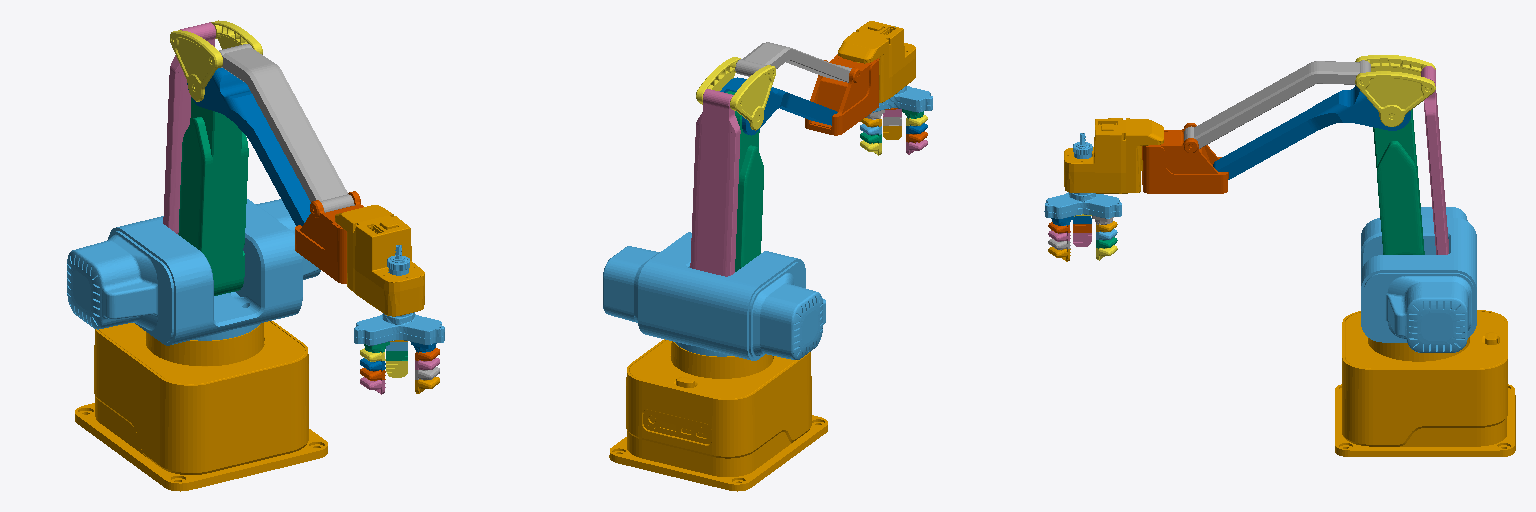
The robot description file, URDF, robot "DexArm_unofficial":
<robot name="DexArm_unofficial">
  <!-- 
    Components: 
      - B_Fix       L31
      - F_Rot       L44
      - In_1        L67
      - In_2        L114
      - Out_1       L161
      - Out_2       L185
      - Join        L90
      - EE          L137
    Modules: (Go to line and uncomment your choice)
      - Suction     L209
      - Gripper     L234

    Joints:
      Bases:
        - B_Fix -> B_Rot   [-110 deg, 110deg]           L59
      Inner Arms:
        - B_Rot -> In_1    [0, pi/2]                    L81
        - In_1  -> Join    [mimic -1 * B_Rot -> In_1]   L104
        - Join  -> I_2     [-0.6, 1.2]                  L128
        - In_2  -> EE      [mimic -1 * Join  -> In_2]   L151
      Outer Arms:
        - Join  -> Out_1   [mimic  1 * B_Rot -> In_1]   L175
        - Join  -> Out_2   [mimic  1 * Join  -> In_2]   L199
  -->

  <!-- Anchor and rotating base -->
  <link name="B_Fix">
    <visual>
      <origin xyz="0 0 0" rpy="0 0 0"/>
      <geometry>
        <mesh filename="./STL/00-B_Fix.stl" scale="0.001 0.001 0.001"/>
      </geometry>
    </visual>
    <collision>
      <origin xyz="0 0 0" rpy="0 0 0"/>
      <geometry>
        <mesh filename="./STL/00-B_Fix.stl" scale="0.001 0.001 0.001"/>
      </geometry>
    </collision>
  </link>
  <link name="B_Rot">
    <visual>
      <origin xyz="0 0 0" rpy="0 0 0"/>
      <geometry>
        <mesh filename="./STL/01-B_Rot.stl" scale="0.001 0.001 0.001"/>
      </geometry>
    </visual>
    <collision>
      <origin xyz="0 0 0" rpy="0 0 0"/>
      <geometry>
        <mesh filename="./STL/01-B_Rot.stl" scale="0.001 0.001 0.001"/>
      </geometry>
    </collision>
  </link>
  <joint name="bases" type="revolute">
    <parent link="B_Fix" />
    <child link="B_Rot" />
    <limit effort="30" lower="-1.91986" upper="1.91986" velocity="1.74533" />
    <origin xyz="0 0 0" rpy="0 0 0"/>
    <axis xyz="0 0 1" />
  </joint>

  <!-- Base to inner Arm 1 -->
  <link name="In_1">
    <visual>
      <origin xyz="0 0.022 -0.127" rpy="0 0 0" />
      <geometry>
        <mesh filename="./STL/02-In_1.stl" scale="0.001 0.001 0.001"/>
      </geometry>
    </visual>
    <collision>
      <origin xyz="0 0.022 -0.127" rpy="0 0 0"/>
      <geometry>
        <mesh filename="./STL/02-In_1.stl" scale="0.001 0.001 0.001"/>
      </geometry>
    </collision>
  </link>
  <joint name="B_Rot->In_1" type="revolute">
    <parent link="B_Rot" />
    <child link="In_1" />
    <limit effort="30" lower="0" upper="1.57" velocity="1.74533" />
    <origin xyz="0 -0.02 0.13" rpy="0 0 0"/>
    <axis xyz="1 0 0" />
  </joint>

  <!-- Inner Arm 1 to Join -->
  <link name="Join">
    <visual>
      <origin xyz="0 0.0332 -0.277" rpy="0 0 0" />
      <geometry>
        <mesh filename="./STL/03-Join.stl" scale="0.001 0.001 0.001"/>
      </geometry>
    </visual>
    <collision>
      <origin xyz="0 0.0332 -0.277" rpy="0 0 0"/>
      <geometry>
        <mesh filename="./STL/03-Join.stl" scale="0.001 0.001 0.001"/>
      </geometry>
    </collision>
  </link>
  <joint name="In_1->Join" type="revolute">
    <parent link="In_1" />
    <child link="Join" />
    <limit effort="30" lower="-1.57" upper="0" velocity="1.74533" />
    <origin xyz="0 -0.0112 0.15" rpy="0 0 0"/>
    <axis xyz="1 0 0" />
    <mimic joint="B_Rot->In_1" multiplier="-1" offset="0" />
  </joint>

  <!-- Join to Inner Arm 2 -->
  <link name="In_2">
    <visual>
      <origin xyz="0 0.034 -0.276" rpy="0 0 0"/>
      <geometry>
        <mesh filename="./STL/04-In_2.stl" scale="0.001 0.001 0.001"/>
      </geometry>
    </visual>
    <collision>
      <origin xyz="0 0.033 -0.279" rpy="0 0 0"/>
      <geometry>
        <mesh filename="./STL/04-In_2.stl" scale="0.001 0.001 0.001"/>
      </geometry>
    </collision>
  </link>
  <joint name="Join->In_2" type="revolute">
    <parent link="Join" />
    <child link="In_2" />
    <limit effort="30" lower="-0.6" upper="1.2" velocity="1.74533" />
    <origin xyz="0.0 -0.0003 -0.0003" rpy="0 0 0"/>
    <axis xyz="1 0 0" />
  </joint>

  <!-- Inner arm 2 to end effector -->
  <link name="EE">
    <visual>
      <origin xyz="0.0 0.172 -0.218" rpy="0 0 0" />
      <geometry>
        <mesh filename="./STL/05-EE.stl" scale="0.001 0.001 0.001"/>
      </geometry>
    </visual>
    <collision>
      <origin xyz="0.0 0.172 -0.215" rpy="0 0 0" />
      <geometry>
        <mesh filename="./STL/05-EE.stl" scale="0.001 0.001 0.001"/>
      </geometry>
    </collision>
  </link>
  <joint name="In_2->EE" type="revolute">
    <parent link="In_2" />
    <child link="EE" />
    <origin xyz="0 -0.138 -0.058" rpy="0 0 0"/>
    <axis xyz="1 0 0" />
    <mimic joint="Join->In_2" multiplier="-1" offset="0" />
  </joint>

  <!-- The remaining components and joints are not functional -->
  <!-- Base to outer Arm 1 -->
  <link name="Out_1">
    <visual>
      <origin xyz="0 0.005 -0.301" rpy="0 0 0" />
      <geometry>
        <mesh filename="./STL/06-Out_1.stl" scale="0.001 0.001 0.001"/>
      </geometry>
    </visual>
    <collision>
      <origin xyz="0 0.003 -0.305" rpy="0 0 0"/>
      <geometry>
        <mesh filename="./STL/06-Out_1.stl" scale="0.001 0.001 0.001"/>
      </geometry>
    </collision>
  </link>
  <joint name="Join->Out_1" type="revolute">
    <parent link="Join" />
    <child link="Out_1" />
    <limit effort="30" lower="0" upper="1.57" velocity="1.74533" />
    <origin xyz="0 0.0285 0.024" rpy="0 0 0"/>
    <axis xyz="1 0 0" />
    <mimic joint="B_Rot->In_1" multiplier="1" offset="0" />
  </joint>

  <!-- Join to outer Arm 2 -->
  <link name="Out_2">
    <visual>
      <origin xyz="0 0.058 -0.307" rpy="0 0 0" />
      <geometry>
        <mesh filename="./STL/07-Out_2.stl" scale="0.001 0.001 0.001"/>
      </geometry>
    </visual>
    <collision>
      <origin xyz="0 0.057 -0.307" rpy="0 0 0"/>
      <geometry>
        <mesh filename="./STL/07-Out_2.stl" scale="0.001 0.001 0.001"/>
      </geometry>
    </collision>
  </link>
  <joint name="Join->Out_2" type="revolute">
    <parent link="Join" />
    <child link="Out_2" />
    <limit effort="30" lower="-0.6" upper="1.2" velocity="1.74533" />
    <origin xyz="0 -0.024 0.0294" rpy="0 0 0"/>
    <axis xyz="1 0 0" />
    <mimic joint="Join->In_2" multiplier="1" offset="0" />
  </joint>


  <!-- Modules -->
  <!--
  <link name="Suction">
    <visual>
      <origin xyz="-0.077 -0.134 -0.003" rpy="0 3.14 1.57" />
      <geometry>
        <mesh filename="./STL/M01-Suction.stl" scale="0.001 0.001 0.001"/>
      </geometry>
    </visual>
    <collision>
      <origin xyz="-0.077 -0.134 -0.003" rpy="0 3.14 1.57"/>
      <geometry>
        <mesh filename="./STL/M01-Suction.stl" scale="0.001 0.001 0.001"/>
      </geometry>
    </collision>
  </link>
  <joint name="EE->Suction" type="fixed">
    <parent link="EE" />
    <child link="Suction" />
    <limit effort="30" lower="-0.6" upper="1.2" velocity="1.74533" />
    <origin xyz="0 -0.05 0.01" rpy="0 0 0"/>
    <axis xyz="1 0 0" />
  </joint> 
  -->

  <link name="GripperMount">
    <visual>
      <origin xyz="-0.077 -0.134 -0.003" rpy="0 3.14 1.57" />
      <geometry>
        <mesh filename="./STL/M02-GripperMount.stl" scale="0.001 0.001 0.001"/>
      </geometry>
    </visual>
    <collision>
      <origin xyz="-0.077 -0.134 -0.003" rpy="0 3.14 1.57"/>
      <geometry>
        <mesh filename="./STL/M02-GripperMount.stl" scale="0.001 0.001 0.001"/>
      </geometry>
    </collision>
  </link>
  <joint name="EE->GripperMount" type="fixed">
    <parent link="EE" />
    <child link="GripperMount" />
    <limit effort="30" lower="-0.6" upper="1.2" velocity="1.74533" />
    <origin xyz="0 -0.05 0.01" rpy="0 0 0"/>
    <axis xyz="1 0 0" />
  </joint>

  <link name="GripperAxis">
    <visual>
      <origin xyz="-0.075 -0.075 -0.000" rpy="0 3.14 1.57" />
      <geometry>
        <mesh filename="./STL/M02-GripperAxis.stl" scale="0.001 0.001 0.001"/>
      </geometry>
    </visual>
    <collision>
      <origin xyz="-0.075 -0.075 -0.000" rpy="0 3.14 1.57"/>
      <geometry>
        <mesh filename="./STL/M02-GripperAxis.stl" scale="0.001 0.001 0.001"/>
      </geometry>
    </collision>
  </link>
  <joint name="GripperMount->GripperAxis" type="continuous">
    <parent link="GripperMount" />
    <child link="GripperAxis" />
    <limit effort="30" velocity="1.74533" />
    <origin xyz="-0.002 -0.06 0.0" rpy="0 0 0"/>
    <axis xyz="0 0 1" />
  </joint>

  <link name="GripperFingerA1">
    <visual>
      <origin xyz="-0.054 -0.075 0.036" rpy="0.0 3.14 1.57" />
      <geometry>
        <mesh filename="./STL/M02-GripperFinger1.stl" scale="0.001 0.001 0.001"/>
      </geometry>
    </visual>
    <collision>
      <origin xyz="-0.054 -0.075 0.036" rpy="0.0 3.14 1.57" />
      <geometry>
        <mesh filename="./STL/M02-GripperFinger1.stl" scale="0.001 0.001 0.001"/>
      </geometry>
    </collision>
  </link>
  <joint name="GripperAxis->GripperFingerA1" type="fixed">
    <parent link="GripperAxis" />
    <child link="GripperFingerA1" />
    <limit effort="30" velocity="1.74533" />
    <origin xyz="-0.020 0.00 -0.042" rpy="0 0 0"/>
    <axis xyz="0 0 1" />
  </joint>
  <link name="GripperFingerA2">
    <visual>
      <origin xyz="-0.057 -0.075 0.0440" rpy="0.0 3.14 1.57" />
      <geometry>
        <mesh filename="./STL/M02-GripperFinger2.stl" scale="0.001 0.001 0.001"/>
      </geometry>
    </visual>
    <collision>
      <origin xyz="-0.057 -0.075 0.0440" rpy="0.0 3.14 1.57" />
      <geometry>
        <mesh filename="./STL/M02-GripperFinger2.stl" scale="0.001 0.001 0.001"/>
      </geometry>
    </collision>
  </link>
  <joint name="GripperFingerA1->GripperFingerA2" type="revolute">
    <parent link="GripperFingerA1" />
    <child link="GripperFingerA2" />
    <limit effort="30" lower="-0.3" upper="0.0" velocity="1.74533" />
    <origin xyz="0.003 0.00 -0.008" rpy="0 0 0"/>
    <axis xyz="0 1 0" />
  </joint>
  <link name="GripperFingerA3">
    <visual>
      <origin xyz="-0.0575 -0.075 0.0510" rpy="0.0 3.14 1.57" />
      <geometry>
        <mesh filename="./STL/M02-GripperFinger3.stl" scale="0.001 0.001 0.001"/>
      </geometry>
    </visual>
    <collision>
      <origin xyz="-0.0575 -0.075 0.0510" rpy="0.0 3.14 1.57" />
      <geometry>
        <mesh filename="./STL/M02-GripperFinger3.stl" scale="0.001 0.001 0.001"/>
      </geometry>
    </collision>
  </link>
  <joint name="GripperFingerA2->GripperFingerA3" type="revolute">
    <parent link="GripperFingerA2" />
    <child link="GripperFingerA3" />
    <limit effort="30" lower="-0.3" upper="0.0" velocity="1.74533" />
    <origin xyz="0.0005 0.00 -0.007" rpy="0 0 0"/>
    <axis xyz="0 1 0" />
    <mimic joint="GripperFingerA1->GripperFingerA2" multiplier="1" offset="0" />
  </joint>
  <link name="GripperFingerA4">
    <visual>
      <origin xyz="-0.0580 -0.075 0.0580" rpy="0.0 3.14 1.57" />
      <geometry>
        <mesh filename="./STL/M02-GripperFinger4.stl" scale="0.001 0.001 0.001"/>
      </geometry>
    </visual>
    <collision>
      <origin xyz="-0.0580 -0.075 0.0580" rpy="0.0 3.14 1.57" />
      <geometry>
        <mesh filename="./STL/M02-GripperFinger4.stl" scale="0.001 0.001 0.001"/>
      </geometry>
    </collision>
  </link>
  <joint name="GripperFingerA3->GripperFingerA4" type="revolute">
    <parent link="GripperFingerA3" />
    <child link="GripperFingerA4" />
    <limit effort="30" lower="-0.3" upper="0.0" velocity="1.74533" />
    <origin xyz="0.0005 0.00 -0.007" rpy="0 0 0"/>
    <axis xyz="0 1 0" />
    <mimic joint="GripperFingerA1->GripperFingerA2" multiplier="1" offset="0" />
  </joint>
  <link name="GripperFingerA5">
    <visual>
      <origin xyz="-0.0585 -0.075 0.0650" rpy="0.0 3.14 1.57" />
      <geometry>
        <mesh filename="./STL/M02-GripperFinger5.stl" scale="0.001 0.001 0.001"/>
      </geometry>
    </visual>
    <collision>
      <origin xyz="-0.0585 -0.075 0.0650" rpy="0.0 3.14 1.57" />
      <geometry>
        <mesh filename="./STL/M02-GripperFinger5.stl" scale="0.001 0.001 0.001"/>
      </geometry>
    </collision>
  </link>
  <joint name="GripperFingerA4->GripperFingerA5" type="revolute">
    <parent link="GripperFingerA4" />
    <child link="GripperFingerA5" />
    <limit effort="30" lower="-0.3" upper="0.0" velocity="1.74533" />
    <origin xyz="0.0005 0.00 -0.007" rpy="0 0 0"/>
    <axis xyz="0 1 0" />
    <mimic joint="GripperFingerA1->GripperFingerA2" multiplier="1" offset="0" />
  </joint>

  <link name="GripperFingerB1">
    <visual>
      <origin xyz="-0.038 0.084 0.036" rpy="0.0 3.14 5.76" />
      <geometry>
        <mesh filename="./STL/M02-GripperFinger1.stl" scale="0.001 0.001 0.001"/>
      </geometry>
    </visual>
    <collision>
      <origin xyz="-0.038 0.084 0.036" rpy="0.0 3.14 5.76" />
      <geometry>
        <mesh filename="./STL/M02-GripperFinger1.stl" scale="0.001 0.001 0.001"/>
      </geometry>
    </collision>
  </link>
  <joint name="GripperAxis->GripperFingerB1" type="fixed">
    <parent link="GripperAxis" />
    <child link="GripperFingerB1" />
    <limit effort="30" velocity="1.74533" />
    <origin xyz="0.010 0.018 -0.042" rpy="0 0 0.0"/>
    <axis xyz="0 0 1" />
  </joint>
  <link name="GripperFingerB2">
    <visual>
      <origin xyz="0.0616 0.0710 0.044" rpy="0.0 3.14 4.66" />
      <geometry>
        <mesh filename="./STL/M02-GripperFinger2.stl" scale="0.001 0.001 0.001"/>
      </geometry>
    </visual>
    <collision>
      <origin xyz="0.0616 0.0710 0.044" rpy="0.0 3.14 4.66" />
      <geometry>
        <mesh filename="./STL/M02-GripperFinger2.stl" scale="0.001 0.001 0.001"/>
      </geometry>
    </collision>
  </link>
  <joint name="GripperFingerB1->GripperFingerB2" type="revolute">
    <parent link="GripperFingerB1" />
    <child link="GripperFingerB2" />
    <limit effort="30" lower="0.0" upper="0.3" velocity="1.74533" />
    <origin xyz="-0.003 -0.003 -0.008" rpy="0 0 1.1"/>
    <axis xyz="0 1 0" />
    <mimic joint="GripperFingerA1->GripperFingerA2" multiplier="-1" offset="0" />
  </joint>
  <link name="GripperFingerB3">
    <visual>
      <origin xyz="0.0616 0.0710 0.050" rpy="0.0 3.14 4.66" />
      <geometry>
        <mesh filename="./STL/M02-GripperFinger3.stl" scale="0.001 0.001 0.001"/>
      </geometry>
    </visual>
    <collision>
      <origin xyz="0.0616 0.0710 0.050" rpy="0.0 3.14 4.66" />
      <geometry>
        <mesh filename="./STL/M02-GripperFinger3.stl" scale="0.001 0.001 0.001"/>
      </geometry>
    </collision>
  </link>
  <joint name="GripperFingerB2->GripperFingerB3" type="revolute">
    <parent link="GripperFingerB2" />
    <child link="GripperFingerB3" />
    <limit effort="30" lower="0" upper="0.3" velocity="1.74533" />
    <origin xyz="-0.000 -0.000 -0.006" rpy="0 0 0.0"/>
    <axis xyz="0 1 0" />
    <mimic joint="GripperFingerA1->GripperFingerA2" multiplier="-1" offset="0" />
  </joint>
  <link name="GripperFingerB4">
    <visual>
      <origin xyz="0.0611 0.0710 0.057" rpy="0.0 3.14 4.66" />
      <geometry>
        <mesh filename="./STL/M02-GripperFinger4.stl" scale="0.001 0.001 0.001"/>
      </geometry>
    </visual>
    <collision>
      <origin xyz="0.0611 0.0710 0.057" rpy="0.0 3.14 4.66" />
      <geometry>
        <mesh filename="./STL/M02-GripperFinger4.stl" scale="0.001 0.001 0.001"/>
      </geometry>
    </collision>
  </link>
  <joint name="GripperFingerB3->GripperFingerB4" type="revolute">
    <parent link="GripperFingerB3" />
    <child link="GripperFingerB4" />
    <limit effort="30" lower="0." upper="0.3" velocity="1.74533" />
    <origin xyz="0.0005 0.00 -0.007" rpy="0 0 0.0"/>
    <axis xyz="0 1 0" />
    <mimic joint="GripperFingerA1->GripperFingerA2" multiplier="-1" offset="0" />
  </joint>
  <link name="GripperFingerB5">
    <visual>
      <origin xyz="0.0607 0.0710 0.0641" rpy="0.0 3.14 4.66" />
      <geometry>
        <mesh filename="./STL/M02-GripperFinger5.stl" scale="0.001 0.001 0.001"/>
      </geometry>
    </visual>
    <collision>
      <origin xyz="0.0607 0.0710 0.0641" rpy="0.0 3.14 4.66" />
      <geometry>
        <mesh filename="./STL/M02-GripperFinger5.stl" scale="0.001 0.001 0.001"/>
      </geometry>
    </collision>
  </link>
  <joint name="GripperFingerB4->GripperFingerB5" type="revolute">
    <parent link="GripperFingerB4" />
    <child link="GripperFingerB5" />
    <limit effort="30" lower="0" upper="0.3" velocity="1.74533" />
    <origin xyz="0.0005 0.00 -0.007" rpy="0 0 0"/>
    <axis xyz="0 1 0" />
    <mimic joint="GripperFingerA1->GripperFingerA2" multiplier="-1" offset="0" />
  </joint>

  <link name="GripperFingerC1">
    <visual>
      <origin xyz="0.093 -0.010 0.036" rpy="0.0 3.14 3.67" />
      <geometry>
        <mesh filename="./STL/M02-GripperFinger1.stl" scale="0.001 0.001 0.001"/>
      </geometry>
    </visual>
    <collision>
      <origin xyz="0.054 0.075 0.036" rpy="0.0 3.14 3.67" />
      <geometry>
        <mesh filename="./STL/M02-GripperFinger1.stl" scale="0.001 0.001 0.001"/>
      </geometry>
    </collision>
  </link>
  <joint name="GripperAxis->GripperFingerC1" type="fixed">
    <parent link="GripperAxis" />
    <child link="GripperFingerC1" />
    <limit effort="30" velocity="1.74533" />
    <origin xyz="0.010 -0.017 -0.042" rpy="0 0 0"/>
    <axis xyz="0 0 1" />
  </joint>
  <link name="GripperFingerC2">
    <visual>
      <origin xyz="-0.0555 -0.0753 0.0440" rpy="0.0 3.14 1.57" />
      <geometry>
        <mesh filename="./STL/M02-GripperFinger2.stl" scale="0.001 0.001 0.001"/>
      </geometry>
    </visual>
    <collision>
      <origin xyz="-0.0555 -0.0753 0.0440" rpy="0.0 3.14 1.57" />
      <geometry>
        <mesh filename="./STL/M02-GripperFinger2.stl" scale="0.001 0.001 0.001"/>
      </geometry>
    </collision>
  </link>
  <joint name="GripperFingerC1->GripperFingerC2" type="revolute">
    <parent link="GripperFingerC1" />
    <child link="GripperFingerC2" />
    <limit effort="30" lower="-0.3" upper="0" velocity="1.74533" />
    <origin xyz="0.00 0.00 -0.008" rpy="0 0 2.1"/>
    <axis xyz="0 1 0" />
    <mimic joint="GripperFingerA1->GripperFingerA2" multiplier="1" offset="0" />
  </joint>
  <link name="GripperFingerC3">
    <visual>
      <origin xyz="-0.0560 -0.0753 0.0500" rpy="0.0 3.14 1.57" />
      <geometry>
        <mesh filename="./STL/M02-GripperFinger3.stl" scale="0.001 0.001 0.001"/>
      </geometry>
    </visual>
    <collision>
      <origin xyz="-0.0560 -0.0753 0.0500" rpy="0.0 3.14 1.57" />
      <geometry>
        <mesh filename="./STL/M02-GripperFinger3.stl" scale="0.001 0.001 0.001"/>
      </geometry>
    </collision>
  </link>
  <joint name="GripperFingerC2->GripperFingerC3" type="revolute">
    <parent link="GripperFingerC2" />
    <child link="GripperFingerC3" />
    <limit effort="30" lower="-0.3" upper="0.0" velocity="1.74533" />
    <origin xyz="0.0005 0.00 -0.006" rpy="0 0 0"/>
    <axis xyz="0 1 0" />
    <mimic joint="GripperFingerA1->GripperFingerA2" multiplier="1" offset="0" />
  </joint>
  <link name="GripperFingerC4">
    <visual>
      <origin xyz="-0.0565 -0.0753 0.0570" rpy="0.0 3.14 1.57" />
      <geometry>
        <mesh filename="./STL/M02-GripperFinger4.stl" scale="0.001 0.001 0.001"/>
      </geometry>
    </visual>
    <collision>
      <origin xyz="-0.0565 -0.0753 0.0570" rpy="0.0 3.14 1.57" />
      <geometry>
        <mesh filename="./STL/M02-GripperFinger4.stl" scale="0.001 0.001 0.001"/>
      </geometry>
    </collision>
  </link>
  <joint name="GripperFingerC3->GripperFingerC4" type="revolute">
    <parent link="GripperFingerC3" />
    <child link="GripperFingerC4" />
    <limit effort="30" lower="-0.3" upper="0.0" velocity="1.74533" />
    <origin xyz="0.0005 0.00 -0.007" rpy="0 0 0"/>
    <axis xyz="0 1 0" />
    <mimic joint="GripperFingerA1->GripperFingerA2" multiplier="1" offset="0" />
  </joint>
  <link name="GripperFingerC5">
    <visual>
      <origin xyz="-0.0570 -0.0753 0.0640" rpy="0.0 3.14 1.57" />
      <geometry>
        <mesh filename="./STL/M02-GripperFinger5.stl" scale="0.001 0.001 0.001"/>
      </geometry>
    </visual>
    <collision>
      <origin xyz="-0.0570 -0.0753 0.0640" rpy="0.0 3.14 1.57" />
      <geometry>
        <mesh filename="./STL/M02-GripperFinger5.stl" scale="0.001 0.001 0.001"/>
      </geometry>
    </collision>
  </link>
  <joint name="GripperFingerC4->GripperFingerC5" type="revolute">
    <parent link="GripperFingerC4" />
    <child link="GripperFingerC5" />
    <limit effort="30" lower="-0.3" upper="0.0" velocity="1.74533" />
    <origin xyz="0.0005 0.00 -0.007" rpy="0 0 0"/>
    <axis xyz="0 1 0" />
    <mimic joint="GripperFingerA1->GripperFingerA2" multiplier="1" offset="0" />
  </joint>
  
</robot>

--- What the picture shows (computed from the rendered views, not written in the file) ---
3 views of the same robot in one strip: view 1: azimuth 30°, elevation 25°; view 2: azimuth 150°, elevation 25°; view 3: azimuth 270°, elevation 25° (orthographic).
Model DexArm_unofficial with 25 links and 24 joints (19 revolute, 1 continuous, 4 fixed), rooted at B_Fix, posed all joints at 0.
Links seen in each view (by area): view 1: B_Fix, B_Rot, In_1, Out_2, GripperMount, In_2, Out_1, EE, Join, GripperAxis; view 2: B_Fix, B_Rot, Out_1, EE, GripperMount, In_1, Join, Out_2, In_2, GripperAxis; view 3: B_Fix, B_Rot, In_1, GripperMount, In_2, EE, Out_2, Join, Out_1, GripperAxis.
Boxes of the visible links, box(x1,y1,x2,y2) form: B_Fix: box(75, 321, 327, 491); B_Rot: box(67, 199, 320, 345); In_1: box(178, 98, 248, 295); Out_2: box(219, 44, 354, 212); GripperMount: box(335, 205, 424, 316); In_2: box(187, 68, 310, 225); Out_1: box(163, 22, 215, 234); EE: box(295, 191, 363, 283); Join: box(170, 20, 262, 101); GripperAxis: box(354, 245, 444, 345); B_Fix: box(609, 339, 827, 491); B_Rot: box(603, 232, 825, 360); Out_1: box(690, 89, 740, 276); EE: box(805, 54, 879, 135); GripperMount: box(838, 21, 915, 102); In_1: box(726, 91, 763, 271); Join: box(696, 57, 775, 130); Out_2: box(735, 42, 851, 82); In_2: box(720, 77, 837, 135); GripperAxis: box(872, 26, 932, 112); B_Fix: box(1335, 310, 1515, 456); B_Rot: box(1361, 207, 1476, 352); In_1: box(1373, 109, 1424, 254); GripperMount: box(1064, 118, 1163, 193); In_2: box(1213, 85, 1410, 179); EE: box(1142, 123, 1228, 193); Out_2: box(1184, 60, 1370, 148); Join: box(1355, 55, 1435, 126); Out_1: box(1421, 66, 1448, 254); GripperAxis: box(1044, 133, 1121, 218).
Size in the robot's own frame: 0.179 by 0.3777 by 0.317 metres.
Meshes: 15 distinct files referenced, 25 mesh visuals loaded (15 binary STL).